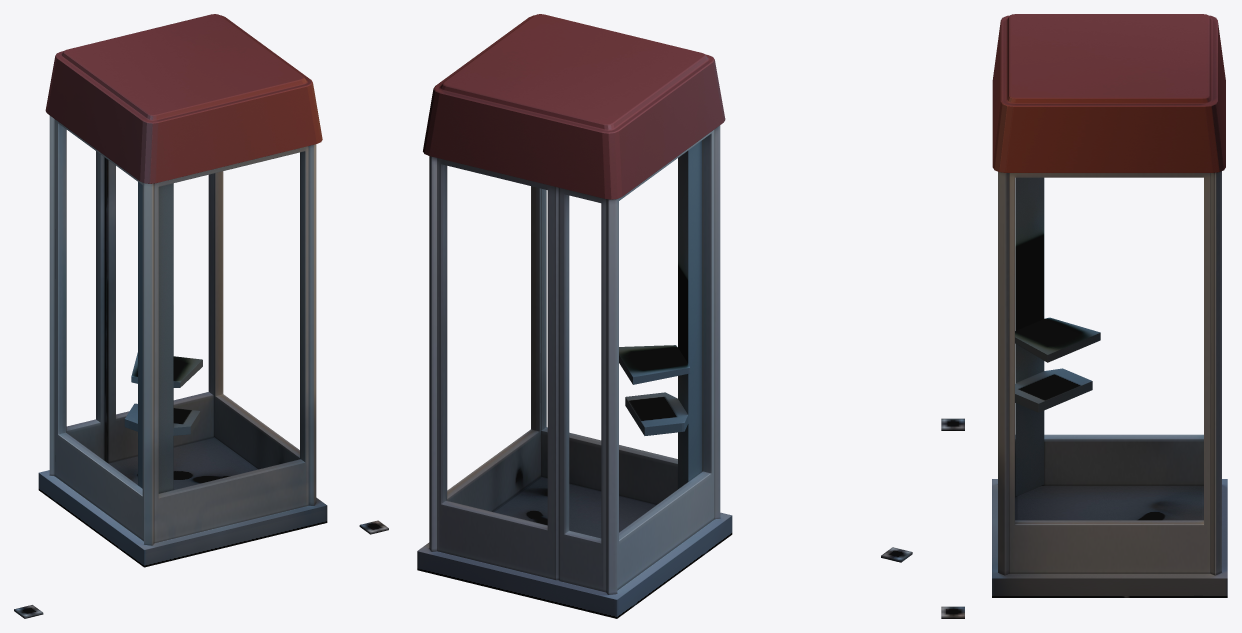
The model's file is Booth.glb.
The picture shows the model from 3 angles, left to right: view 1: azimuth 30°, elevation 25°; view 2: azimuth 150°, elevation 25°; view 3: azimuth 270°, elevation 25°; orthographic projection. The views are drawn at different scales.
Visible parts, largest first — view 1: Cube.004_Baked, Cube.003_Baked, Cube.001_Baked, Cube.009_Baked, Cylinder.006_Baked; view 2: Cube.004_Baked, Cube.003_Baked, Cube.009_Baked, Cube.001_Baked; view 3: Cube.003_Baked, Cube.004_Baked, Cube.001_Baked, Cube.009_Baked.
Boxes of the visible parts, x1=… form: Cube.004_Baked: x1=49, y1=115, x2=316, y2=545; Cube.003_Baked: x1=45, y1=14, x2=322, y2=183; Cube.001_Baked: x1=38, y1=437, x2=327, y2=567; Cube.009_Baked: x1=124, y1=182, x2=202, y2=493; Cylinder.006_Baked: x1=104, y1=157, x2=108, y2=462; Cube.004_Baked: x1=429, y1=125, x2=720, y2=594; Cube.003_Baked: x1=423, y1=14, x2=725, y2=199; Cube.009_Baked: x1=619, y1=140, x2=702, y2=488; Cube.001_Baked: x1=417, y1=476, x2=732, y2=618; Cube.003_Baked: x1=992, y1=14, x2=1225, y2=172; Cube.004_Baked: x1=998, y1=171, x2=1221, y2=575; Cube.001_Baked: x1=992, y1=479, x2=1227, y2=597; Cube.009_Baked: x1=1015, y1=177, x2=1100, y2=496.
Bounding box in the file's own units: 2.63 × 3.05 × 1.61.
Materials: 1 (1 with a texture image).
